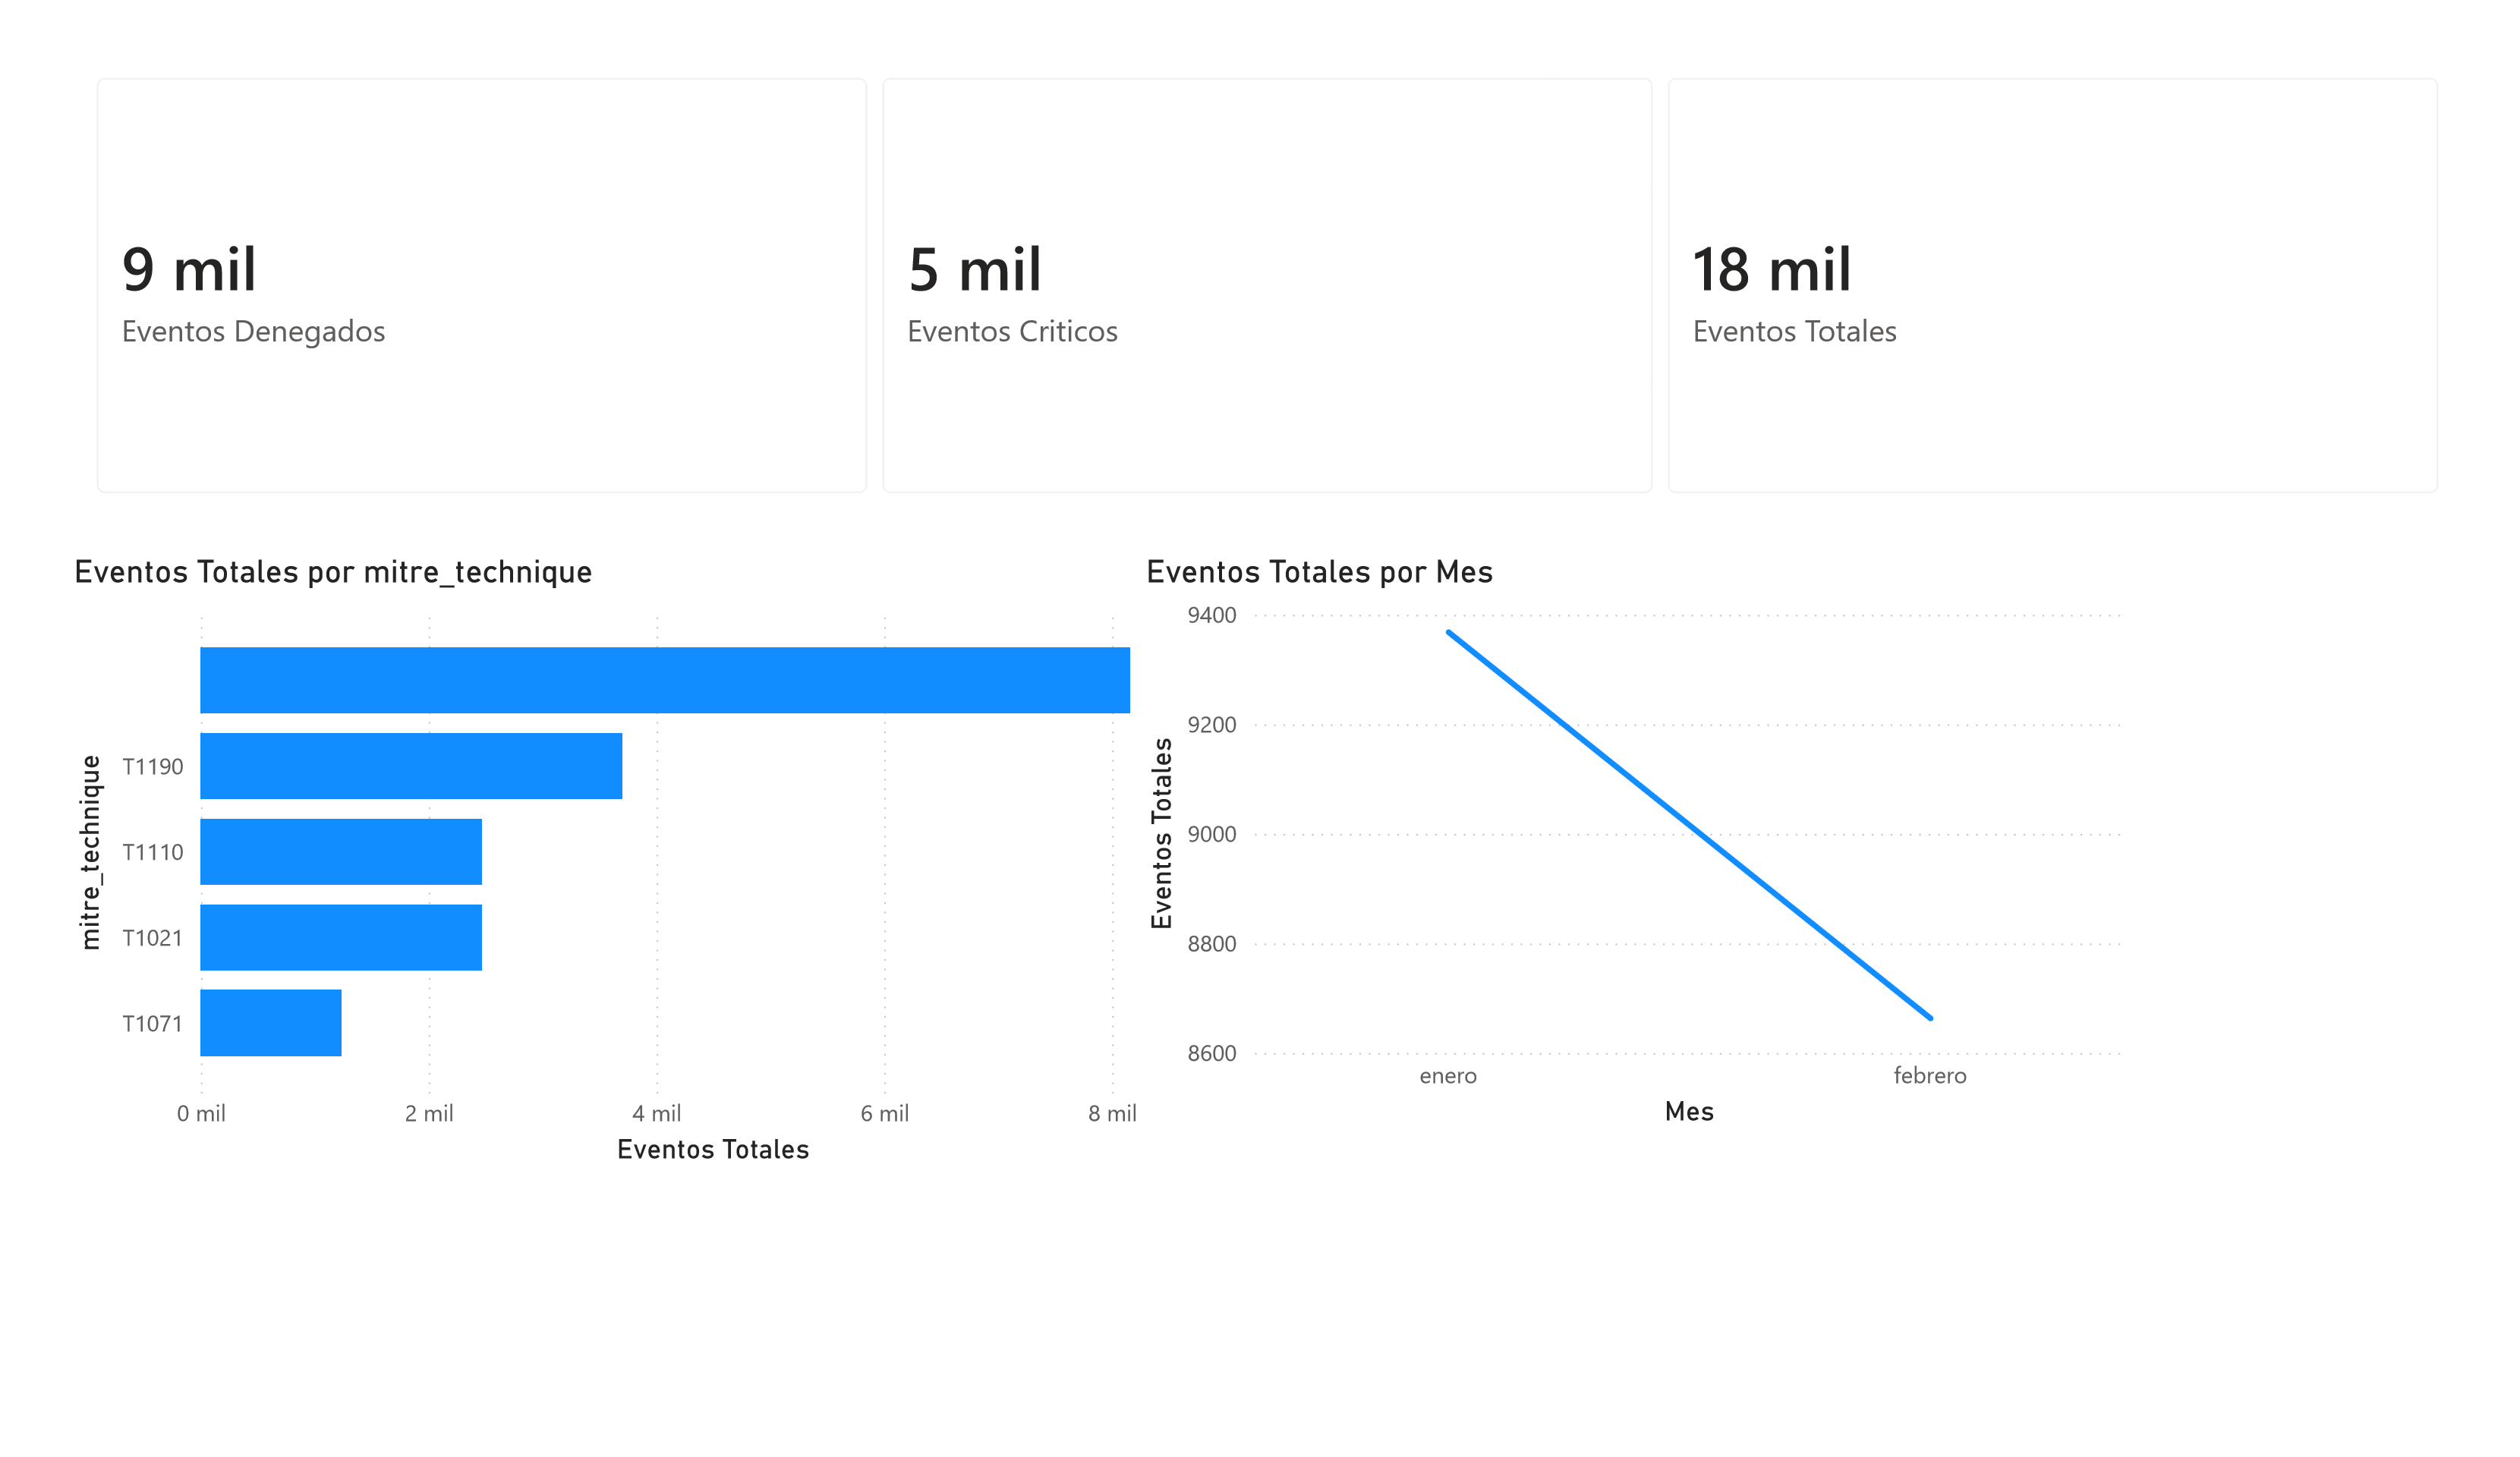

What the dashboard file says about the page in this screenshot:
{"tool":"powerbi","page":{"name":"Ejecutiva","canvas":[1280,720],"ordinal":0},"visuals":[{"type":"cardVisual","fields":{"Data":["powerbi_dataset.Eventos Denegados","powerbi_dataset.Eventos Criticos","powerbi_dataset.Eventos Totales"]},"box":[10,0,1270,253.3],"z":0},{"type":"barChart","fields":{"Category":["powerbi_dataset.mitre_technique"],"Y":["powerbi_dataset.Eventos Totales"]},"box":[10,266.7,630,328.3],"z":1000},{"type":"lineChart","fields":{"Y":["powerbi_dataset.Eventos Totales"],"Category":["powerbi_dataset.mes.Variación.Jerarquía de fechas.Mes"]},"box":[575,266.7,525,308.3],"z":2000}]}

Visuals, with their boxes in screenshot pixels (x1, y1, x2, y2), scaled from the page's 1280x720 canvas onto the 2520x1457 screenshot:
cardVisual - powerbi_dataset.Eventos Denegados x powerbi_dataset.Eventos Criticos: bbox=[20, 0, 2519, 512]
barChart - powerbi_dataset.mitre_technique x powerbi_dataset.Eventos Totales: bbox=[20, 540, 1260, 1204]
lineChart - powerbi_dataset.Eventos Totales x powerbi_dataset.mes.Variación.Jerarquía de fechas.Mes: bbox=[1132, 540, 2166, 1163]
